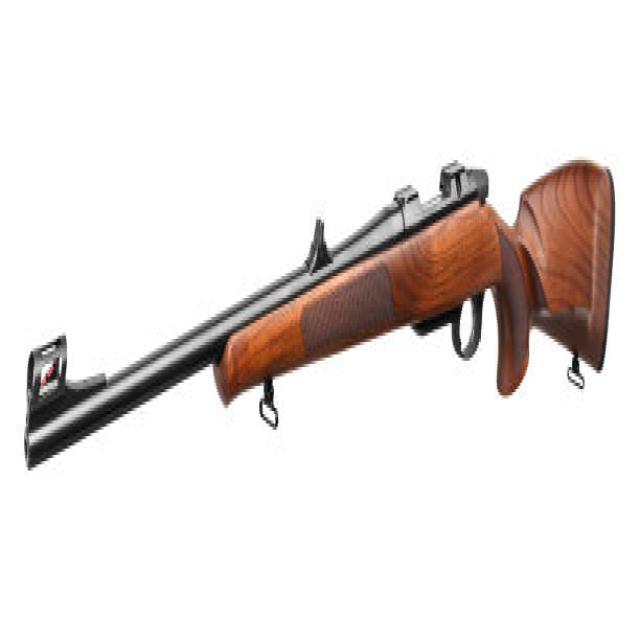rifle: (16, 128, 618, 476)
